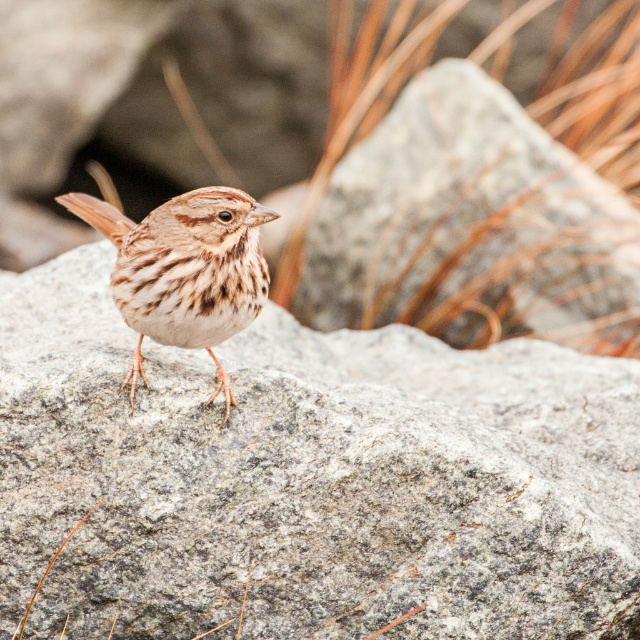Sparrow: (53, 186, 281, 427)
